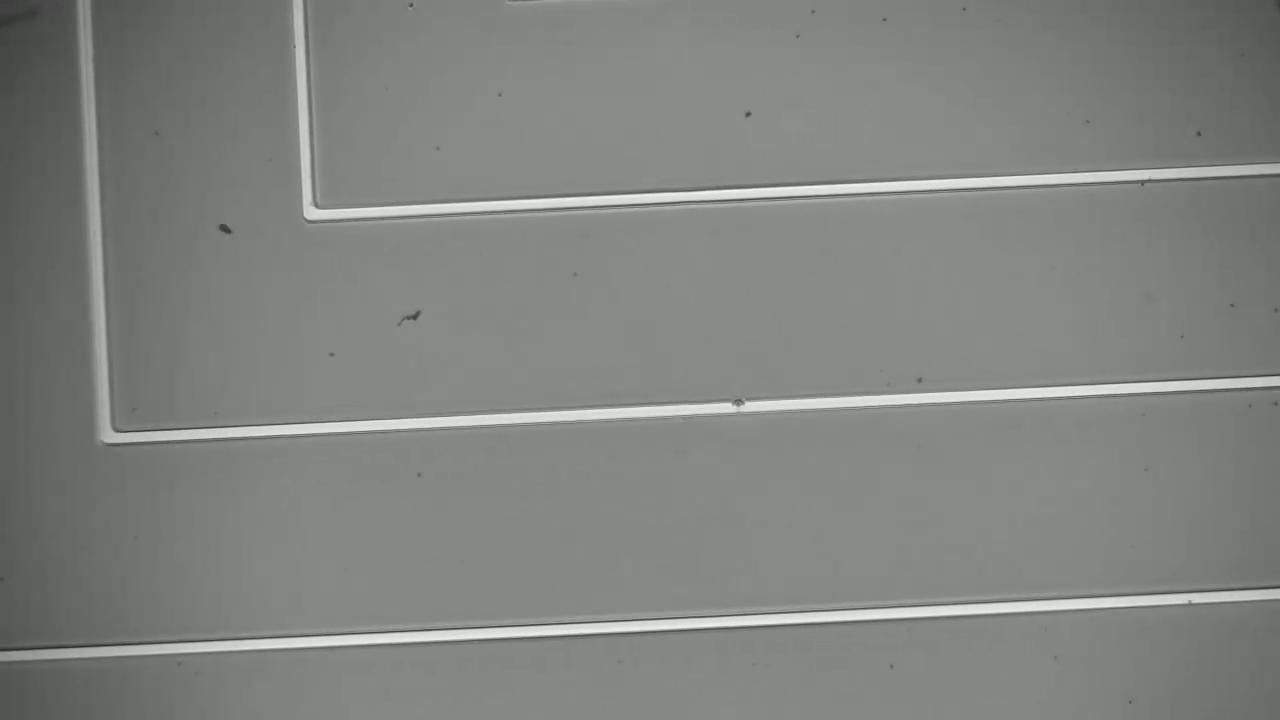stains_enbedded: (724, 388, 756, 423)
